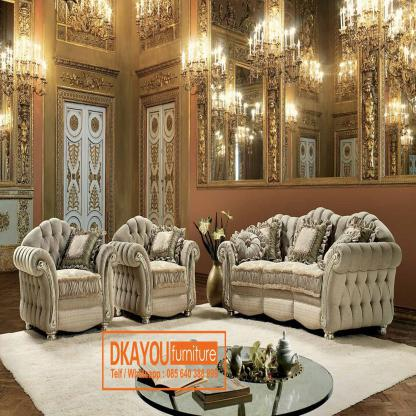sova: (221, 206, 398, 345), (13, 217, 120, 335), (111, 218, 201, 321)
